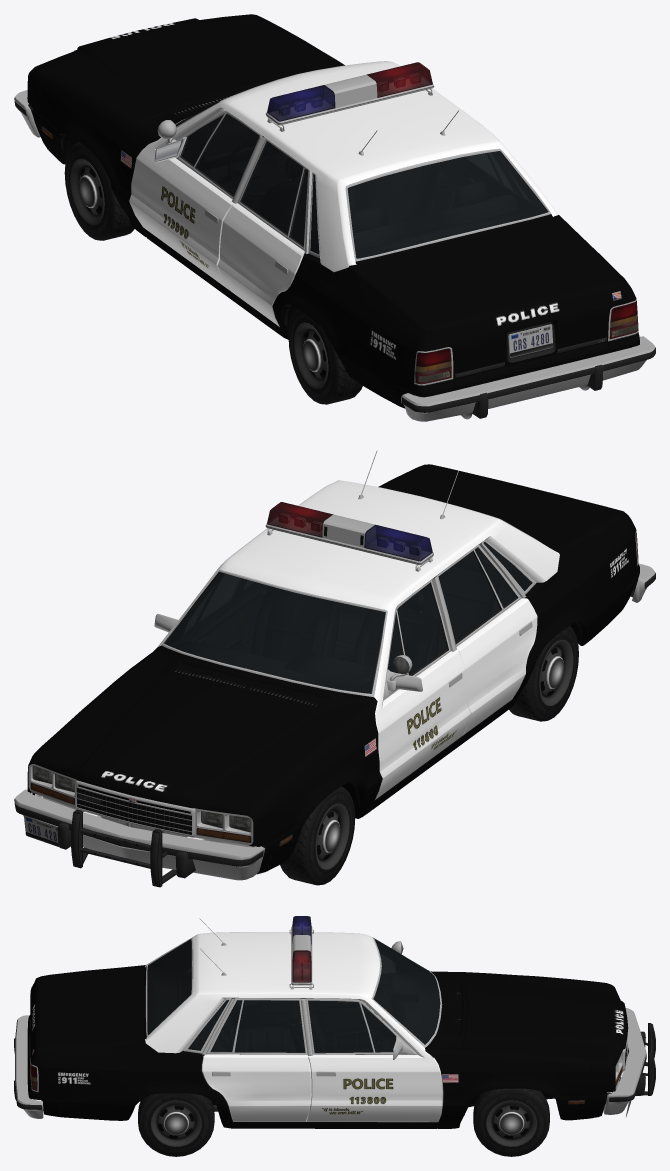
Rendered from police.glb.
3 views of the same model, one above another, from view 1: azimuth 30°, elevation 25°; view 2: azimuth 150°, elevation 25°; view 3: azimuth 270°, elevation 25° (orthographic). The views are drawn at different scales.
Visible parts, largest first — view 1: Fairheaven_LT80_body001_Fairheaven_LT80_Bodymat_0, Fairheaven_LT80_trunk_door001_Fairheaven_LT80_Bodymat_0, Fairheaven_LT80_Hood001_Fairheaven_LT80_Bodymat_0, Fairheaven_LT80_Interior_Trim001_UCB_Interior_Trim_0, Fairheaven_LT80_Glass_Rear001_UCB_Lights_and_Glass_Transpere, Fairheaven_LT80_bumper_rear001_UCB_BOTTOM_GT_0, Fairheaven_LT80_Trim_UCB_BOTTOM_GT_0, Fairheaven_LT80_Interior001_UCB_Interior_Trim_0, Fairheaven_LT80_Glass_Body001_UCB_Lights_and_Glass_Transpere, Fairheaven_LT80_WheelStamp_FL_RB1c_Tire_1k_0, Fairheaven_LT80_WheelStamp_RL_RB1c_Tire_1k_0, Fairheaven_LT80_Glass_Driver002_UCB_Lights_and_Glass_Transpe (+9 smaller); view 2: Fairheaven_LT80_body001_Fairheaven_LT80_Bodymat_0, Fairheaven_LT80_Hood001_Fairheaven_LT80_Bodymat_0, Fairheaven_LT80_Interior_Trim001_UCB_Interior_Trim_0, Fairheaven_LT80_Windshield001_UCB_Lights_and_Glass_Transpere, Fairheaven_LT80_trunk_door001_Fairheaven_LT80_Bodymat_0, Fairheaven_LT80_Bumper_Front001_UCB_BOTTOM_GT_0, Fairheaven_LT80_Trim_UCB_BOTTOM_GT_0, Fairheaven_LT80_Front_Plate_Inner001_UCB_BOTTOM_GT_0, Fairheaven_LT80_WheelStamp_FL_RB1c_Tire_1k_0, Fairheaven_LT80_Glass_Body001_UCB_Lights_and_Glass_Transpere, Fairheaven_LT80_WheelStamp_RL_RB1c_Tire_1k_0, Fairheaven_LT80_Interior001_UCB_Interior_Trim_0 (+11 smaller); view 3: Fairheaven_LT80_body001_Fairheaven_LT80_Bodymat_0, Fairheaven_LT80_Hood001_Fairheaven_LT80_Bodymat_0, Fairheaven_LT80_trunk_door001_Fairheaven_LT80_Bodymat_0, Fairheaven_LT80_Interior_Trim001_UCB_Interior_Trim_0, Fairheaven_LT80_Interior001_UCB_Interior_Trim_0, Fairheaven_LT80_Glass_Body001_UCB_Lights_and_Glass_Transpere, Fairheaven_LT80_WheelStamp_FR_RB1c_Tire_1k_0, Fairheaven_LT80_Trim_UCB_BOTTOM_GT_0, Fairheaven_LT80_WheelStamp_RR_RB1c_Tire_1k_0, Fairheaven_LT80_Windshield001_UCB_Lights_and_Glass_Transpere, Fairheaven_LT80_Glass_Passanger002_UCB_Lights_and_Glass_Tran, Fairheaven_LT80_Glass_Rear001_UCB_Lights_and_Glass_Transpere (+6 smaller).
Part boxes in pixels (x1,y1,x2,y2): Fairheaven_LT80_body001_Fairheaven_LT80_Bodymat_0: (38,20,639,408); Fairheaven_LT80_trunk_door001_Fairheaven_LT80_Bodymat_0: (357,217,626,379); Fairheaven_LT80_Hood001_Fairheaven_LT80_Bodymat_0: (37,14,340,124); Fairheaven_LT80_Interior_Trim001_UCB_Interior_Trim_0: (182,115,517,253); Fairheaven_LT80_Glass_Rear001_UCB_Lights_and_Glass_Transpere: (347,151,548,258); Fairheaven_LT80_bumper_rear001_UCB_BOTTOM_GT_0: (401,336,655,421); Fairheaven_LT80_Trim_UCB_BOTTOM_GT_0: (154,64,638,385); Fairheaven_LT80_Interior001_UCB_Interior_Trim_0: (176,117,547,257); Fairheaven_LT80_Glass_Body001_UCB_Lights_and_Glass_Transpere: (242,142,528,254); Fairheaven_LT80_WheelStamp_FL_RB1c_Tire_1k_0: (64,142,134,240); Fairheaven_LT80_WheelStamp_RL_RB1c_Tire_1k_0: (288,309,362,404); Fairheaven_LT80_Glass_Driver002_UCB_Lights_and_Glass_Transpe: (182,114,259,195); Fairheaven_LT80_body001_Fairheaven_LT80_Bodymat_0: (44,464,639,871); Fairheaven_LT80_Hood001_Fairheaven_LT80_Bodymat_0: (34,666,350,815); Fairheaven_LT80_Interior_Trim001_UCB_Interior_Trim_0: (175,549,517,692); Fairheaven_LT80_Windshield001_UCB_Lights_and_Glass_Transpere: (164,572,385,693); Fairheaven_LT80_trunk_door001_Fairheaven_LT80_Bodymat_0: (384,464,622,550); Fairheaven_LT80_Bumper_Front001_UCB_BOTTOM_GT_0: (14,789,265,880); Fairheaven_LT80_Trim_UCB_BOTTOM_GT_0: (154,504,638,700); Fairheaven_LT80_Front_Plate_Inner001_UCB_BOTTOM_GT_0: (28,764,253,845); Fairheaven_LT80_WheelStamp_FL_RB1c_Tire_1k_0: (280,786,355,885); Fairheaven_LT80_Glass_Body001_UCB_Lights_and_Glass_Transpere: (243,542,532,642); Fairheaven_LT80_WheelStamp_RL_RB1c_Tire_1k_0: (509,626,578,721); Fairheaven_LT80_Interior001_UCB_Interior_Trim_0: (165,542,531,652); Fairheaven_LT80_body001_Fairheaven_LT80_Bodymat_0: (27,932,591,1128); Fairheaven_LT80_Hood001_Fairheaven_LT80_Bodymat_0: (459,973,628,1066); Fairheaven_LT80_trunk_door001_Fairheaven_LT80_Bodymat_0: (30,967,144,1060); Fairheaven_LT80_Interior_Trim001_UCB_Interior_Trim_0: (191,971,440,1054); Fairheaven_LT80_Interior001_UCB_Interior_Trim_0: (147,940,434,1051); Fairheaven_LT80_Glass_Body001_UCB_Lights_and_Glass_Transpere: (188,969,305,1052); Fairheaven_LT80_WheelStamp_FR_RB1c_Tire_1k_0: (473,1088,549,1156); Fairheaven_LT80_Trim_UCB_BOTTOM_GT_0: (30,937,442,1092); Fairheaven_LT80_WheelStamp_RR_RB1c_Tire_1k_0: (138,1093,214,1156); Fairheaven_LT80_Windshield001_UCB_Lights_and_Glass_Transpere: (373,938,440,1044); Fairheaven_LT80_Glass_Passanger002_UCB_Lights_and_Glass_Tran: (308,1000,395,1052); Fairheaven_LT80_Glass_Rear001_UCB_Lights_and_Glass_Transpere: (147,939,191,1034).
Size of the model in its own units: 1.88 by 1.61 by 5.2.
Materials: 8 (8 with a texture image).
